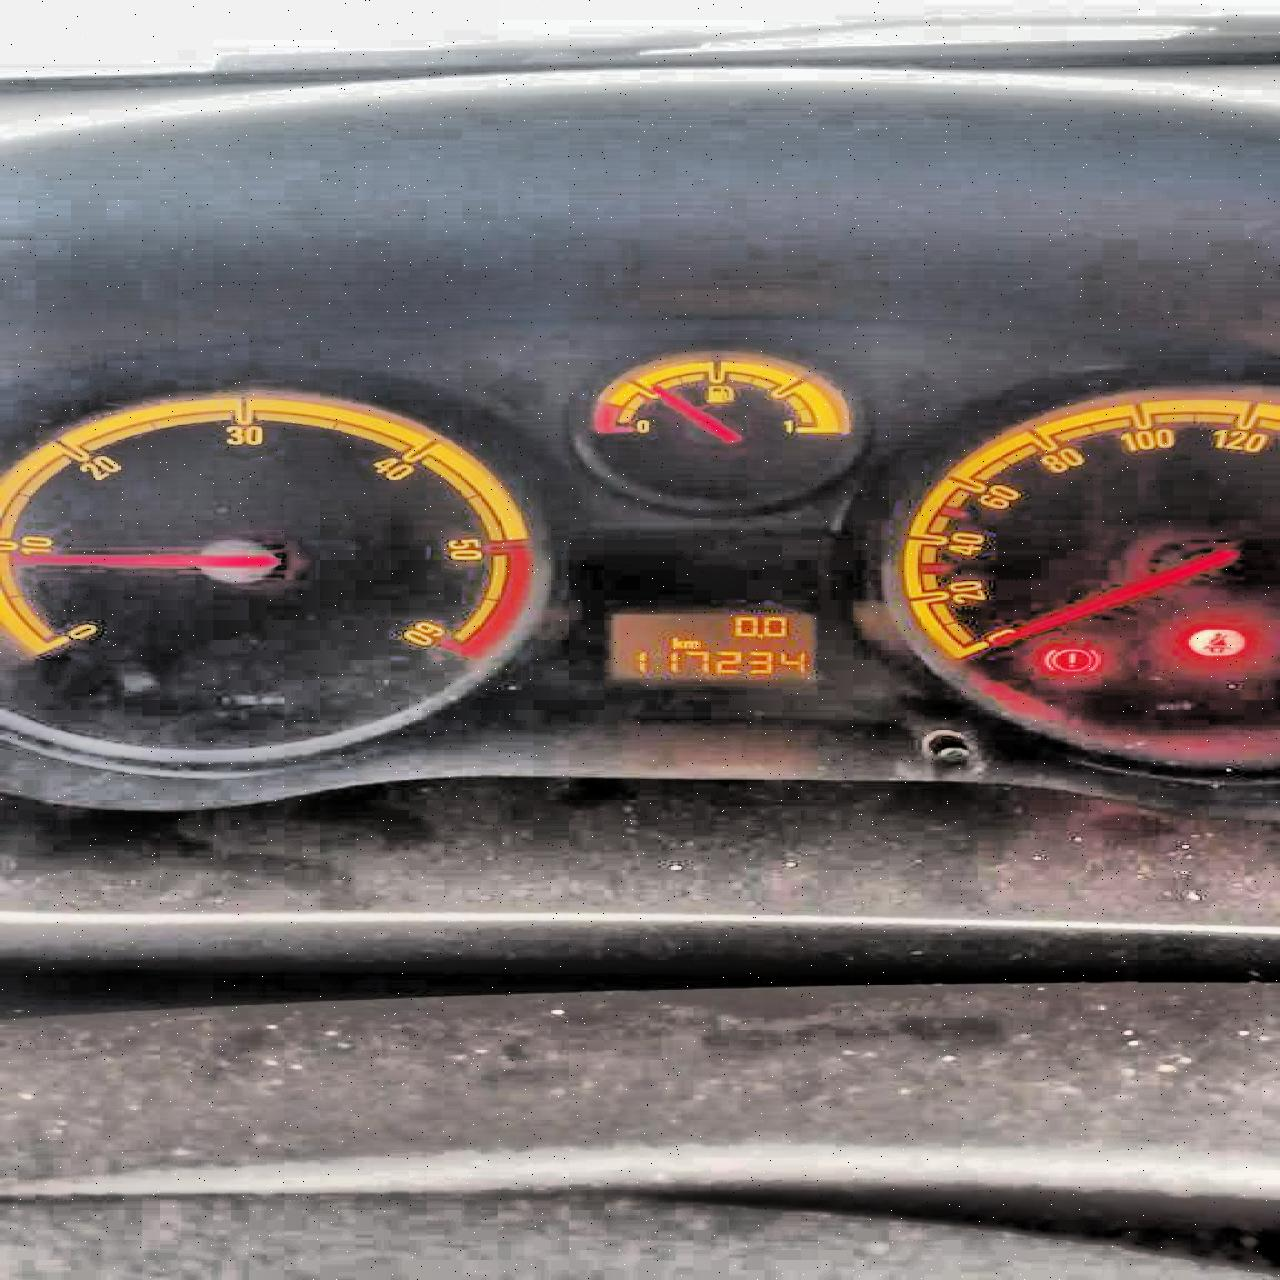-: (754, 633, 760, 639)
0: (731, 615, 757, 636), (760, 615, 784, 636)
1: (635, 649, 647, 673), (667, 649, 678, 673)
2: (713, 649, 740, 673)
3: (744, 649, 771, 673)
4: (776, 649, 804, 673)
7: (682, 648, 709, 673)
X: (680, 639, 697, 647), (669, 636, 682, 647)
odometer: (605, 608, 818, 682)
